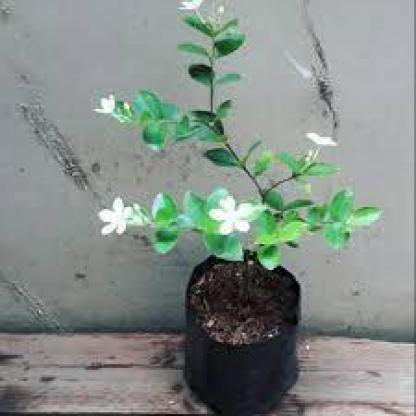Melati: (81, 184, 140, 240), (204, 193, 258, 238), (84, 88, 140, 127), (286, 121, 341, 155)
